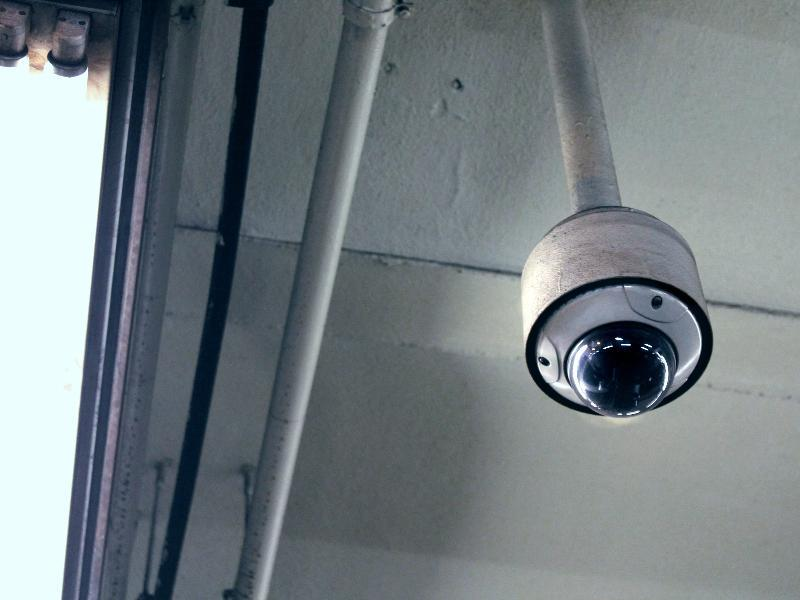CCTV: (530, 284, 708, 418)
